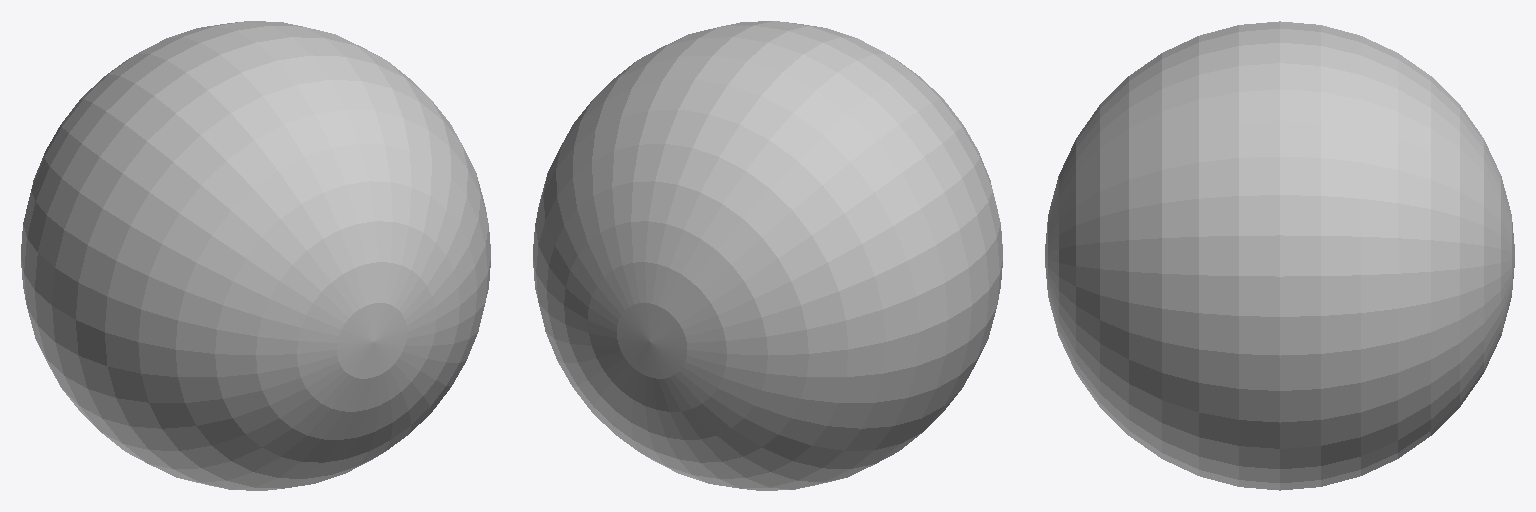
Rendered from boxm.obj.
The picture shows the model from 3 angles: view 1: azimuth 30°, elevation 25°; view 2: azimuth 150°, elevation 25°; view 3: azimuth 270°, elevation 25°; orthographic projection.
Parts seen in each view (by area): view 1: Sphere01; view 2: Sphere01; view 3: Sphere01.
Boxes of the visible parts, box(x1,y1,x2,y2) form: Sphere01: box(21, 21, 490, 490); Sphere01: box(533, 21, 1002, 490); Sphere01: box(1045, 21, 1514, 490).
Size of the model in its own units: 4 by 4 by 4.